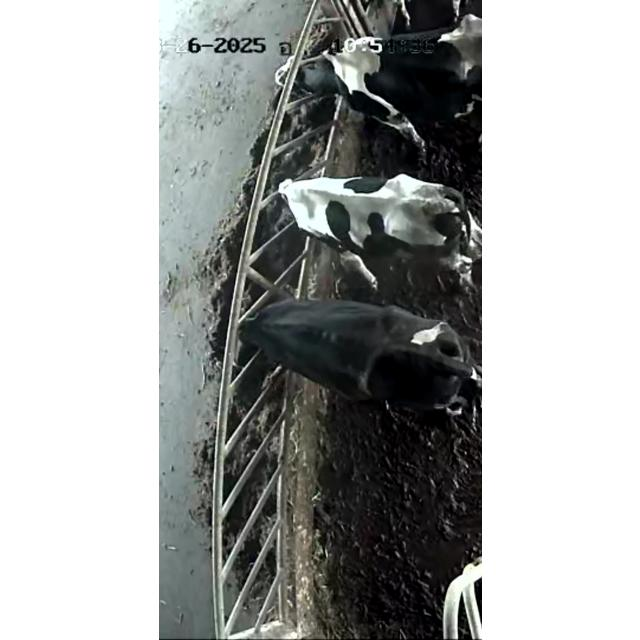eat: (210, 153, 386, 261), (236, 30, 419, 130), (187, 284, 345, 378)
